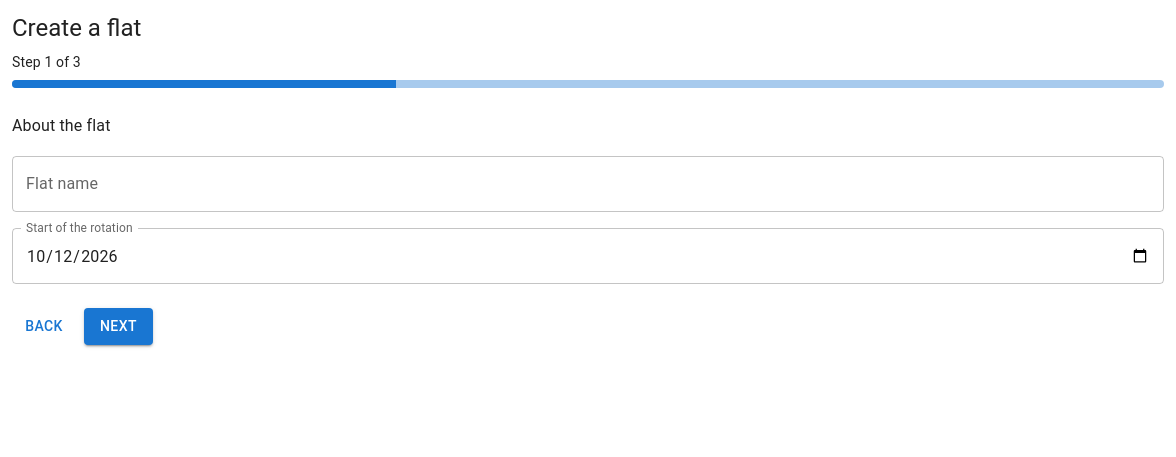
Test: CreateFlatForm › adds and removes people and zones
Type "  Our flat " into the field labelled "Flat name". click: [588, 184]
box: top-left (12, 156), bottom-right (1164, 212)
Click the button "Next". click: [118, 326]
box: top-left (84, 308), bottom-right (153, 344)
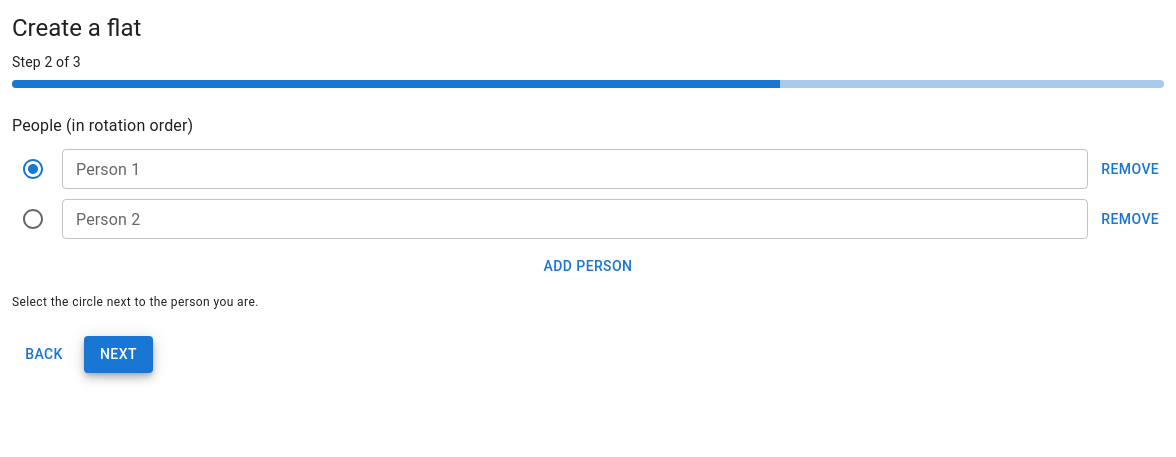
Click the button "Add person". click: [588, 266]
box: top-left (12, 248), bottom-right (1164, 284)
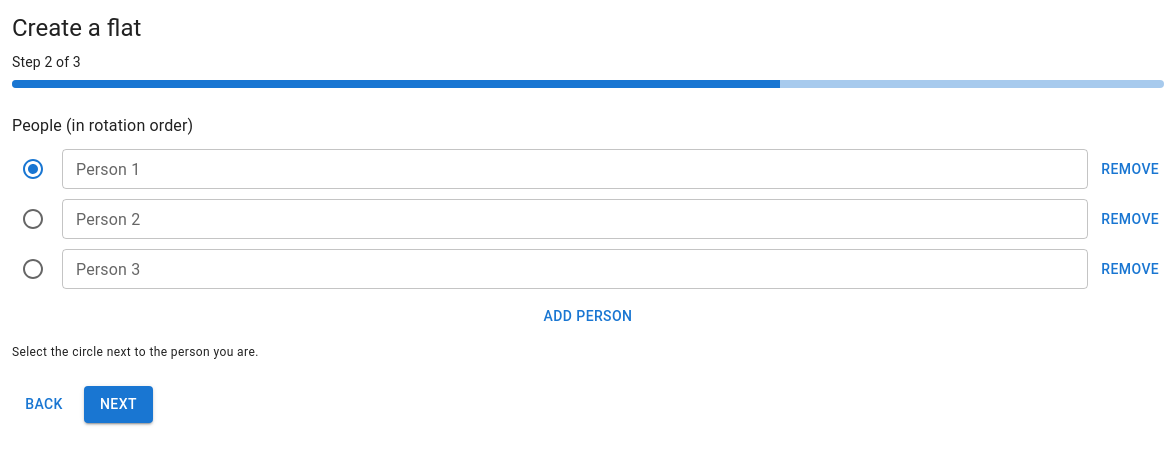
Expected: the field labelled "Person 3" is shown, top-left (62, 249), bottom-right (1088, 289)
Click the button with aria-label "remove person". click: [1130, 269]
box: top-left (1096, 251), bottom-right (1164, 287)
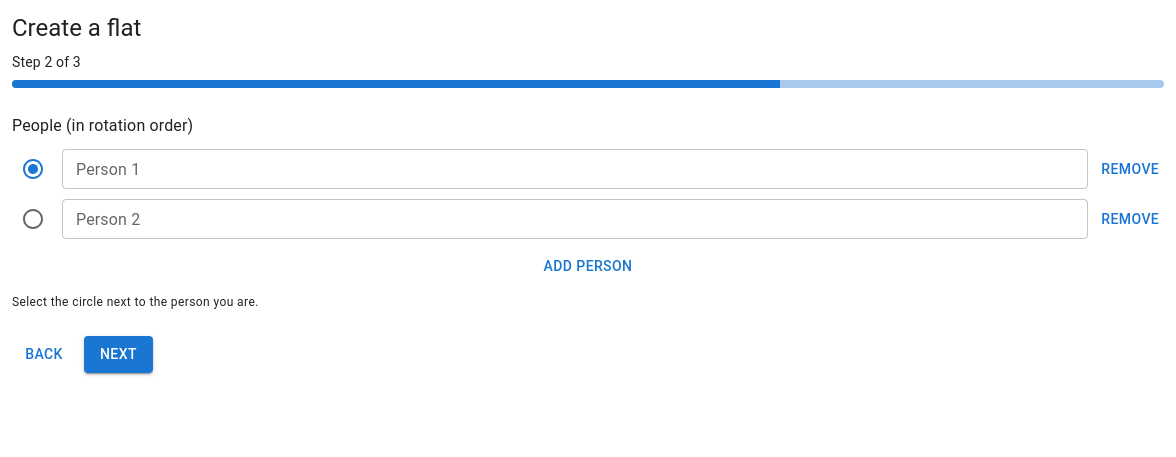
Expected: the label labelled "Person 3" is gone
Type "Ana" into the field labelled "Person 1". click: [575, 169]
box: top-left (62, 149), bottom-right (1088, 189)
Click the button "Next". click: [118, 355]
box: top-left (84, 336), bottom-right (153, 373)
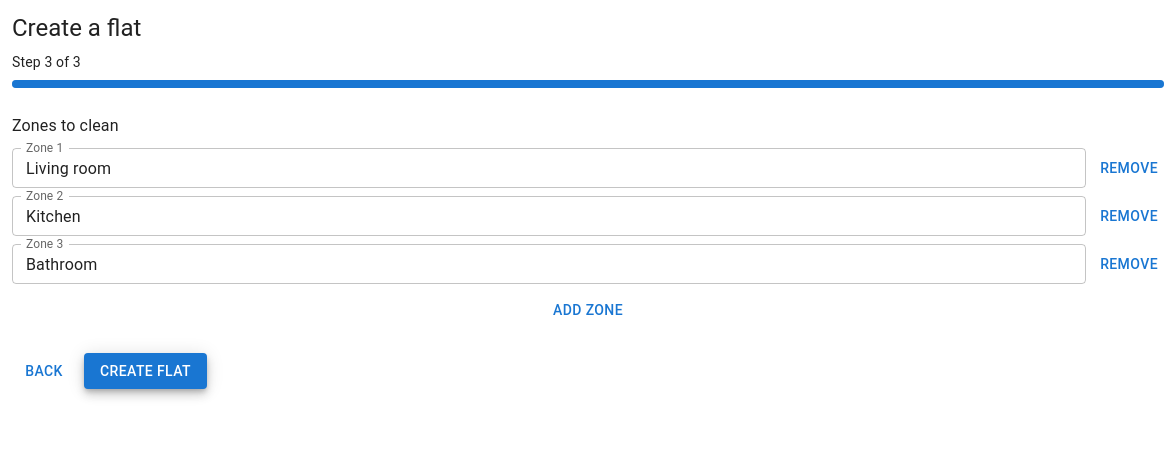
Click the button "Add zone". click: [588, 310]
box: top-left (12, 292), bottom-right (1164, 328)
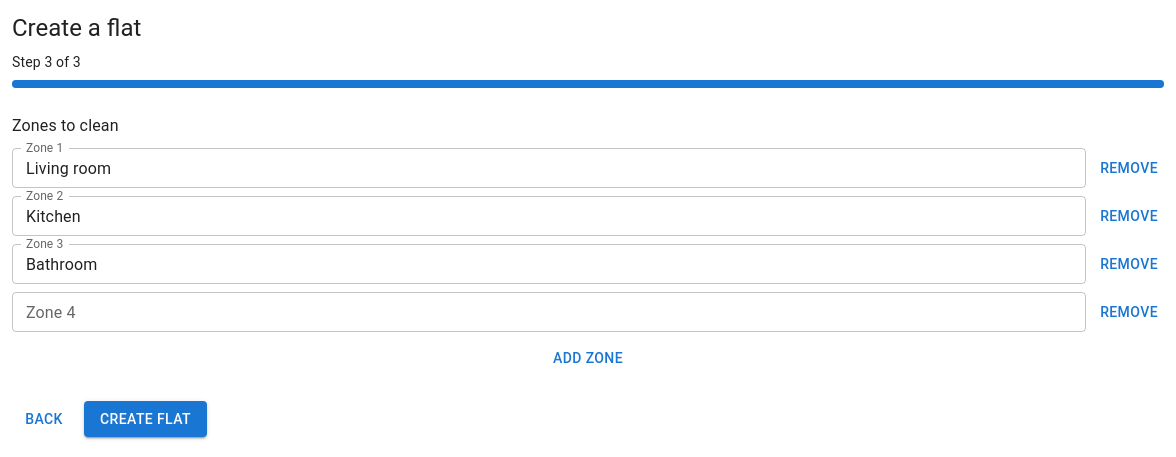
Expected: the field labelled "Zone 4" is shown, top-left (12, 292), bottom-right (1086, 332)
Click the button with aria-label "remove zone". click: [1129, 312]
box: top-left (1094, 292), bottom-right (1164, 332)
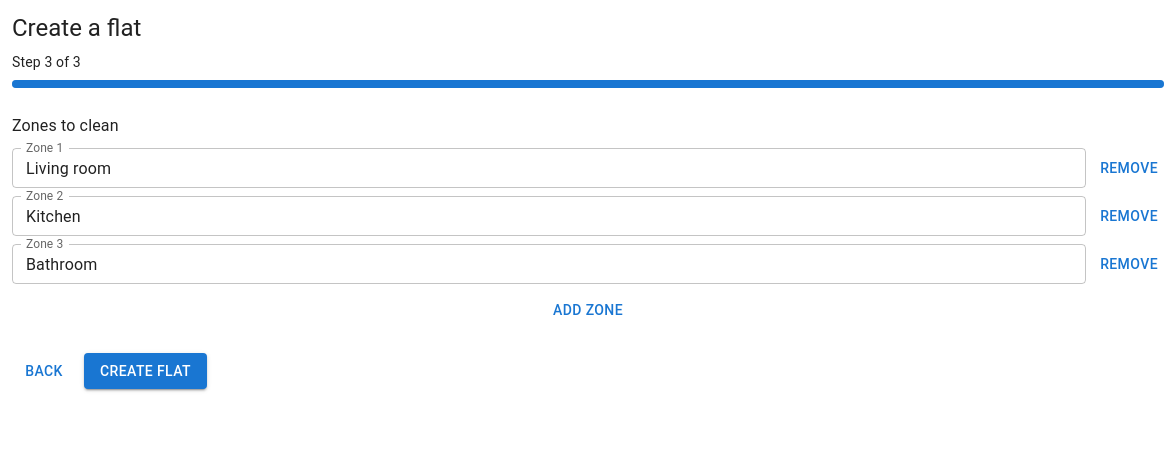
Expected: the label labelled "Zone 4" is gone
